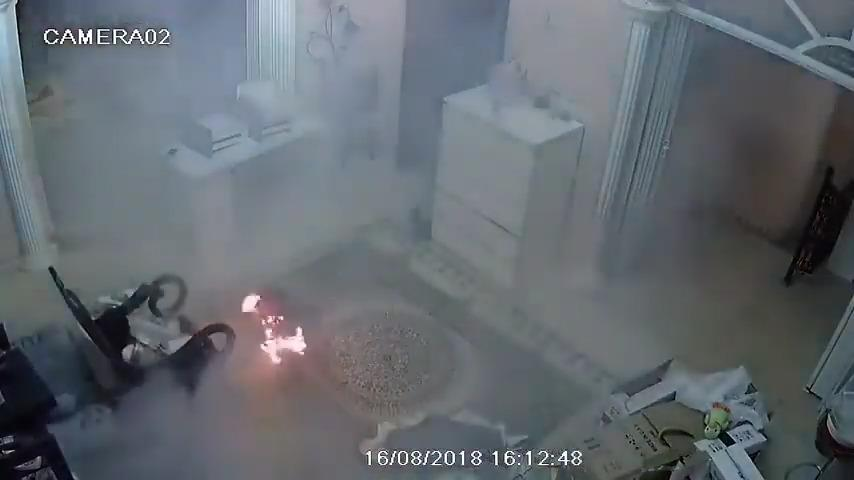fire: (260, 315, 308, 365), (241, 293, 262, 313)
